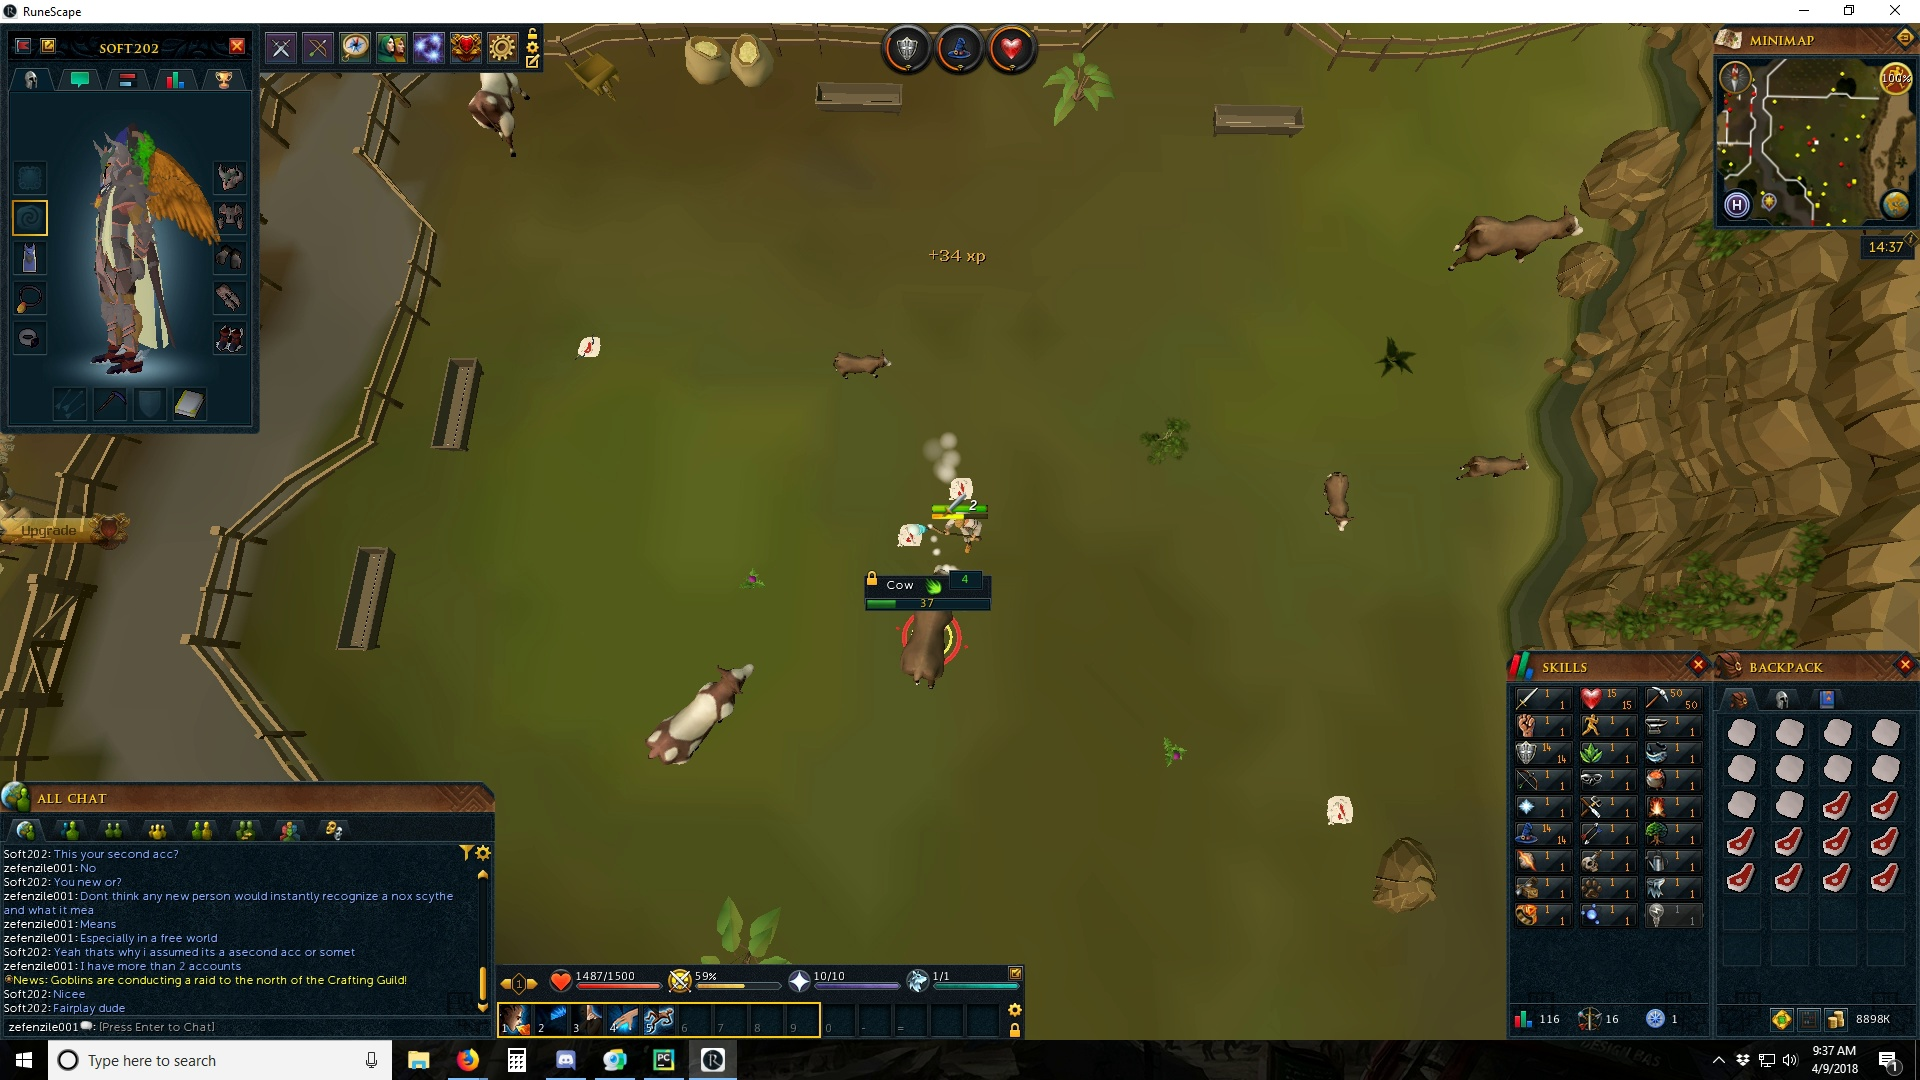calf: (1455, 455, 1536, 485), (1323, 463, 1353, 534), (831, 349, 894, 380)
cow: (644, 659, 756, 767), (1448, 203, 1586, 272), (465, 73, 537, 158), (899, 611, 957, 691)
cow_drop: (1324, 791, 1360, 831), (948, 473, 977, 506), (574, 334, 603, 359)
